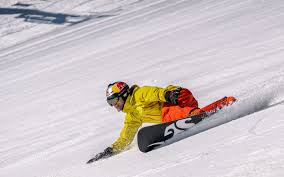snowboard: (135, 94, 237, 154)
